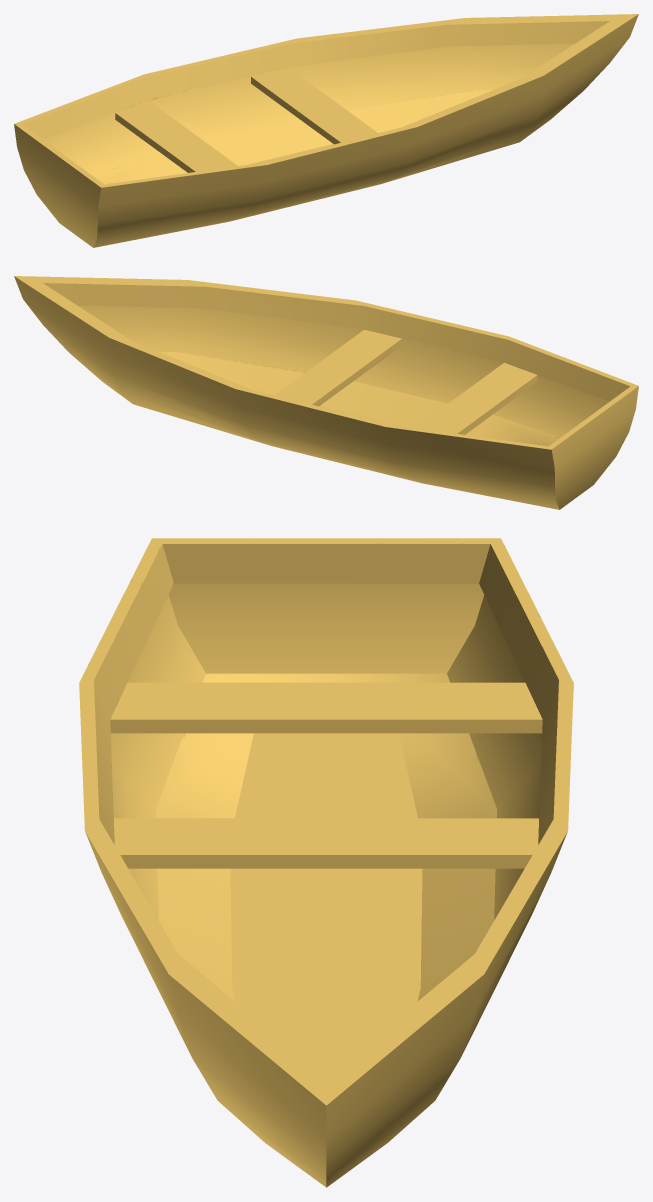
Rendered from Boat.fbx.
3 renders of one model, top to bottom at view 1: azimuth 30°, elevation 25°; view 2: azimuth 150°, elevation 25°; view 3: azimuth 270°, elevation 25°, orthographic. The views are drawn at different scales.
Parts seen in each view (by area): view 1: Boat; view 2: Boat; view 3: Boat.
Part boxes in pixels (x1,y1,x2,y2): Boat: [14, 14, 638, 247]; Boat: [14, 276, 638, 509]; Boat: [79, 538, 573, 1187].
Size of the model in its own units: 275 by 38.1 by 101.
